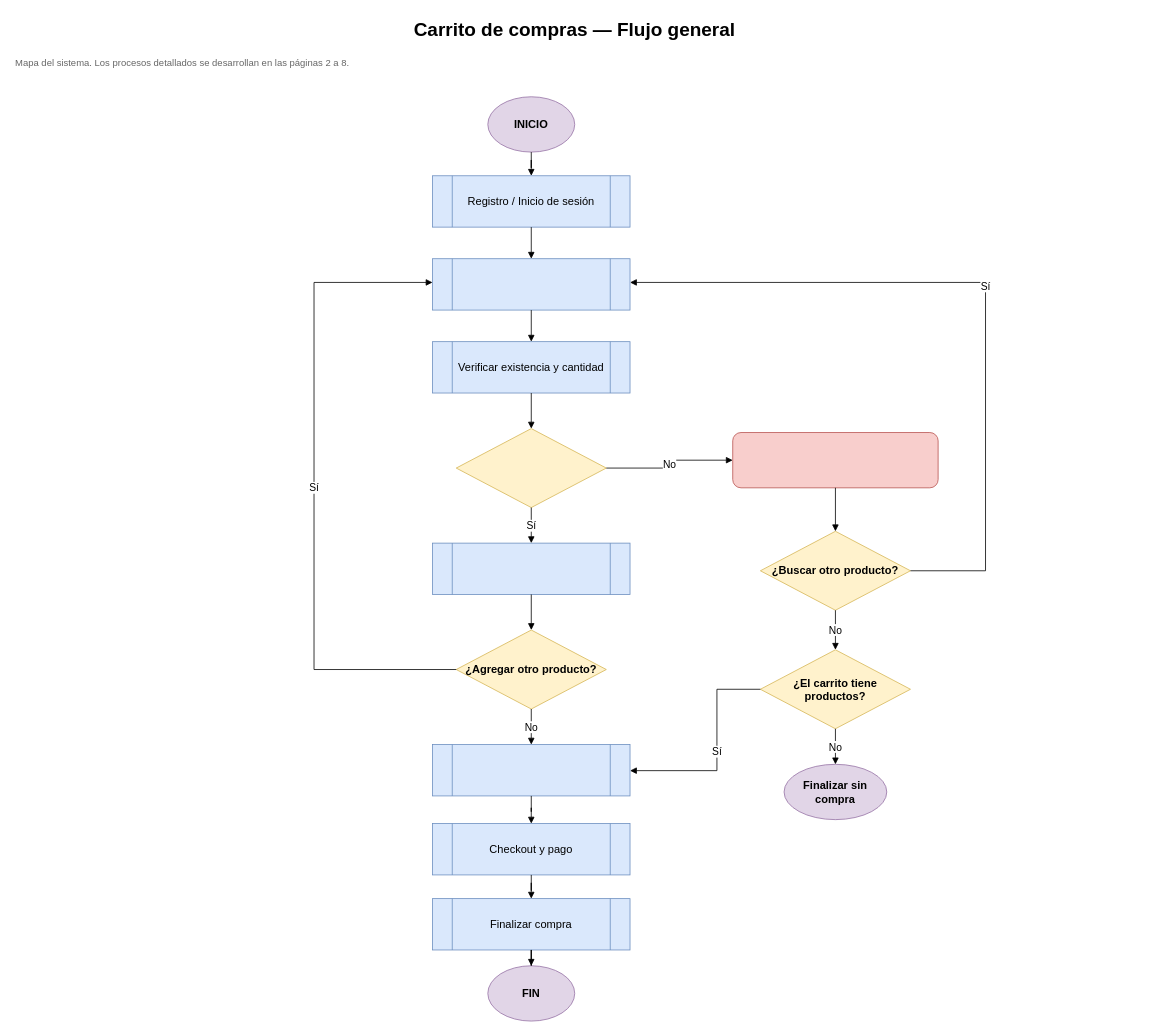
This 1149x1035 diagram has some shape labels left out. The shapes that lost their labels are listed below. From the top down, each one's centre as x and y in pixels, then its label:
the point at 531,284: Buscar producto
the point at 530,468: ¿Producto y cantidad disponibles?
the point at 835,460: Mostrar: producto o cantidad no disponible
the point at 531,568: Agregar al carrito
the point at 531,770: Visualizar / administrar carrito
